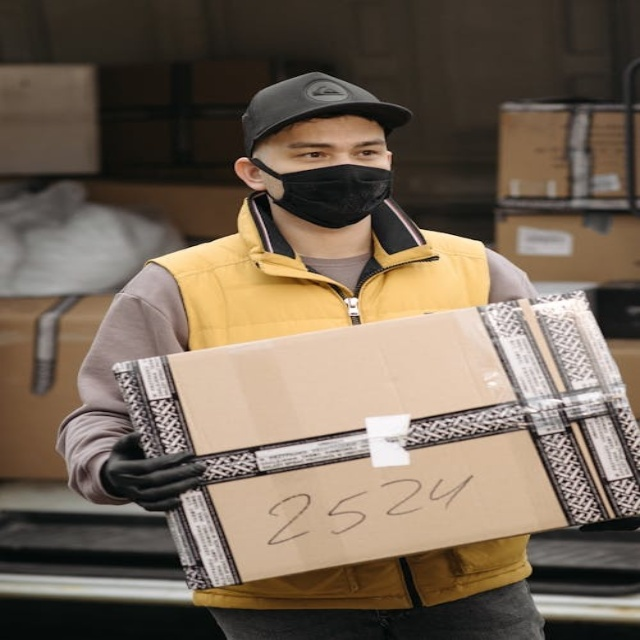Guantes: (101, 431, 209, 512)
Mascara: (252, 159, 395, 227)
Sin_gafas: (282, 138, 388, 165)
